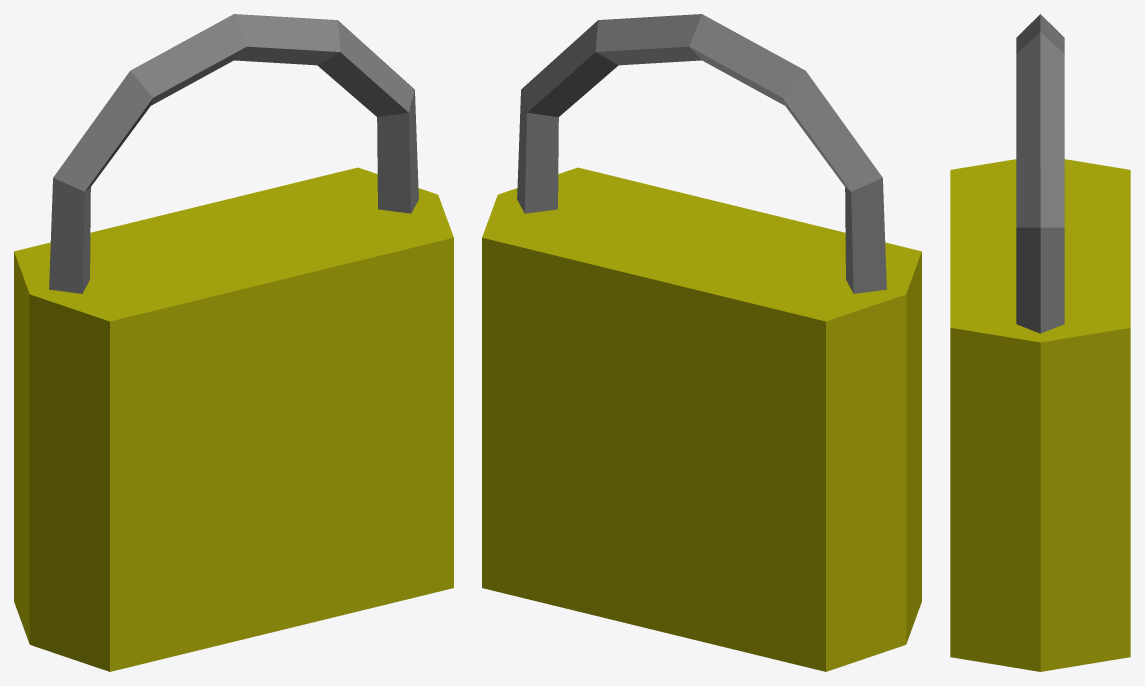
Rendered from Lock_01.fbx.
3 renders of one model, left to right at view 1: azimuth 30°, elevation 25°; view 2: azimuth 150°, elevation 25°; view 3: azimuth 270°, elevation 25°, orthographic. The views are drawn at different scales.
Visible parts, largest first — view 1: Lock_01; view 2: Lock_01; view 3: Lock_01.
Part boxes in pixels (left/top/right/bottom): Lock_01: left=14, top=14, right=453, bottom=671; Lock_01: left=482, top=14, right=921, bottom=671; Lock_01: left=950, top=14, right=1130, bottom=671.
Size of the model in its own units: 12.91 by 17.55 by 5.25.
